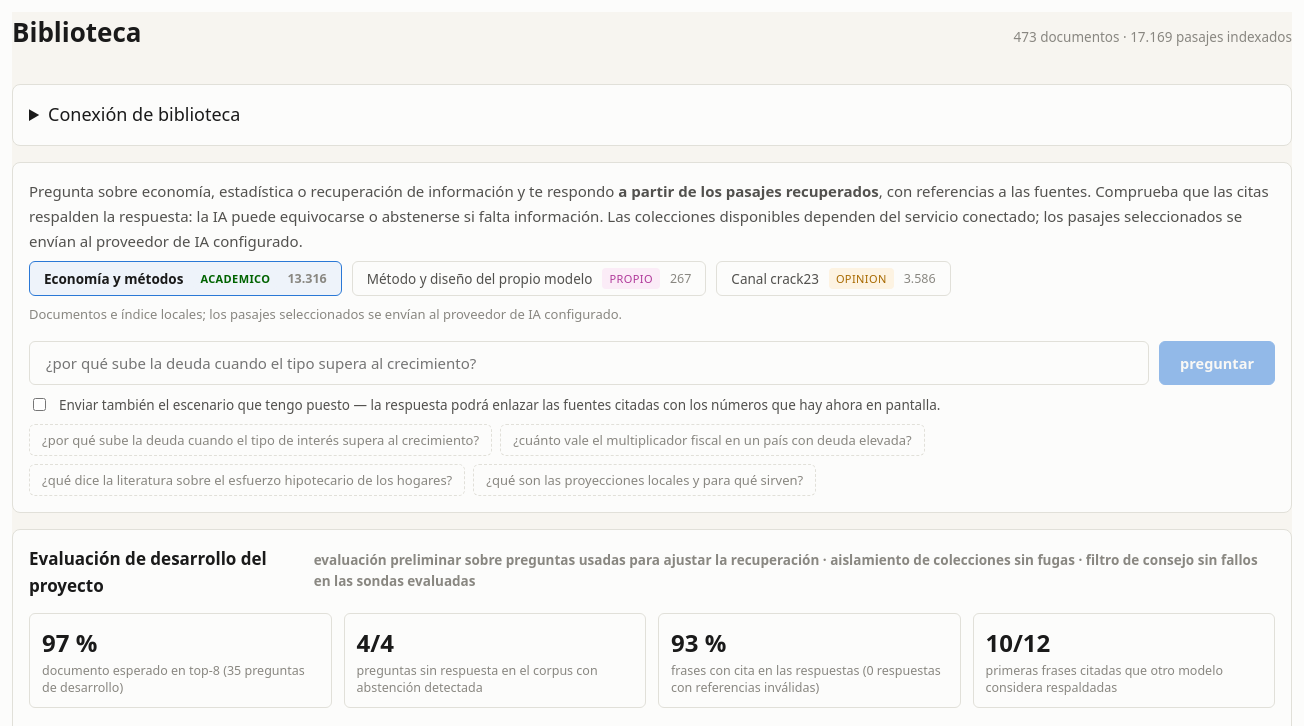
Scenario: Biblioteca — chat con citas › switching collection carries the authority through to the citation
Click the text "Canal crack23": [775, 279] box [731,268,819,289]
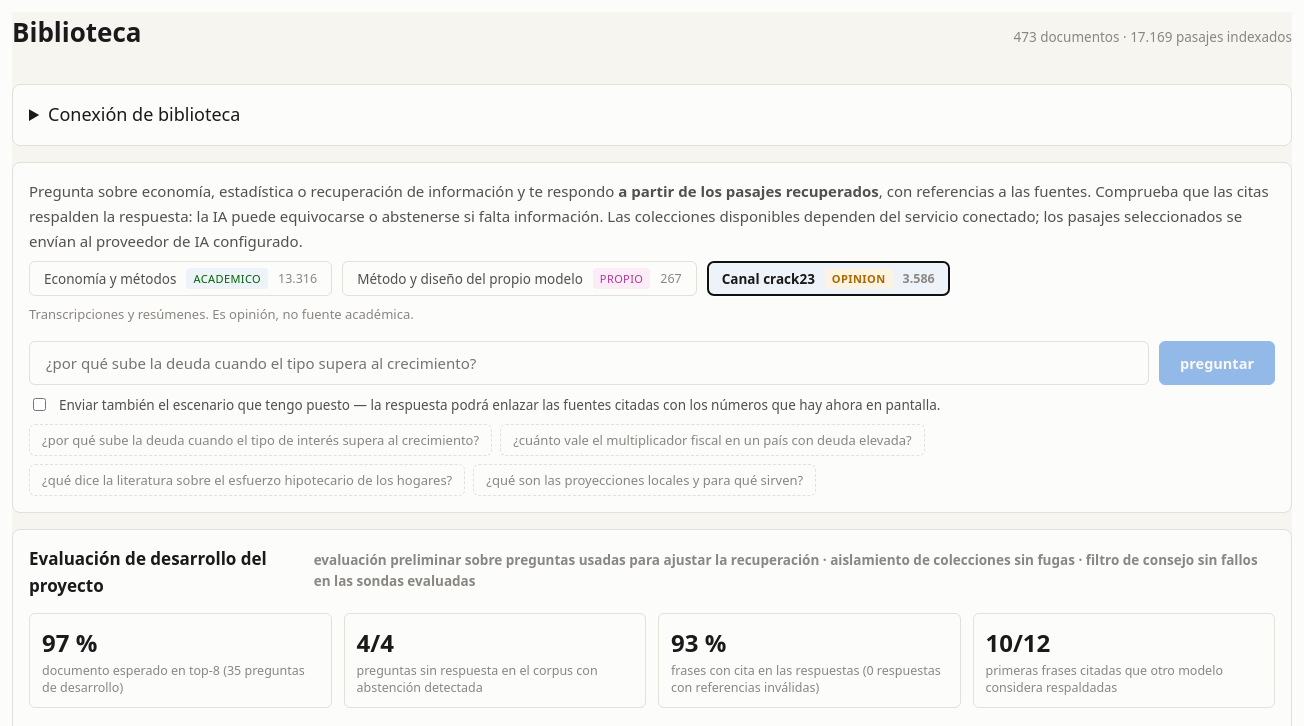
In the field named "Pregunta": [589, 363] box [29,341,1149,385], type "la deuda"
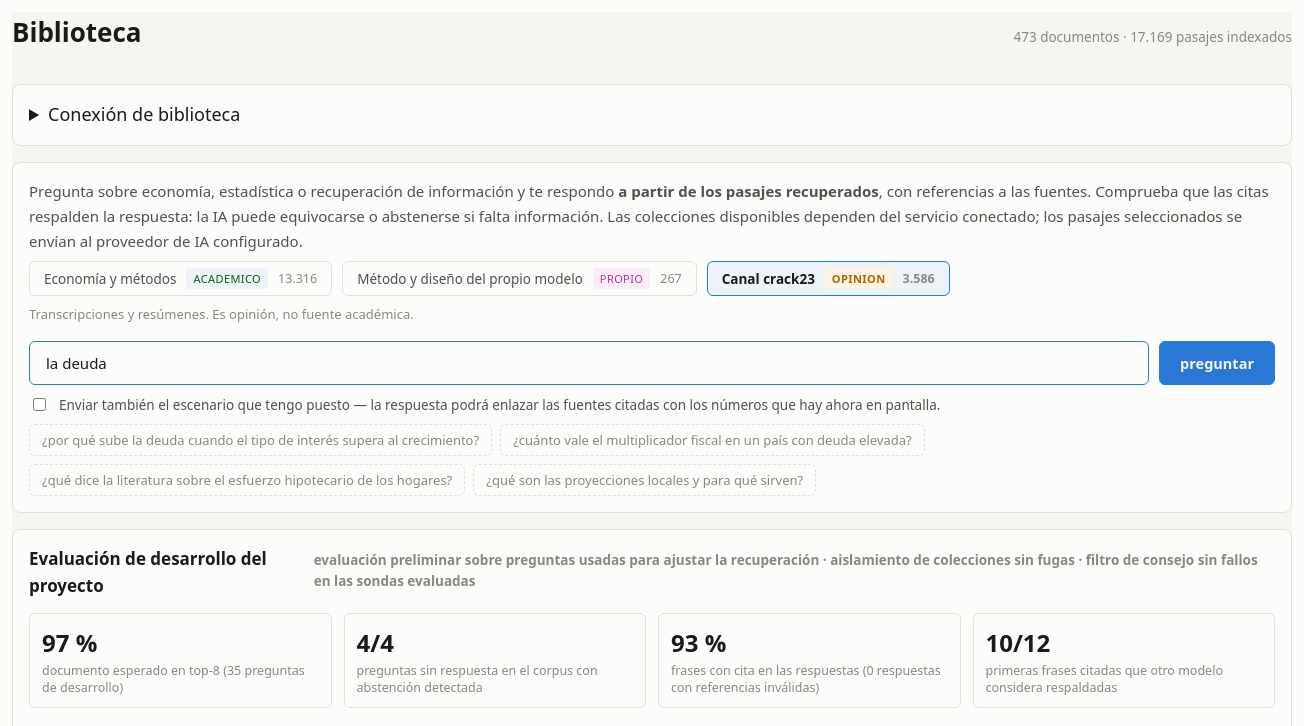
Click the button "preguntar": [1217, 363] box [1159,341,1275,385]
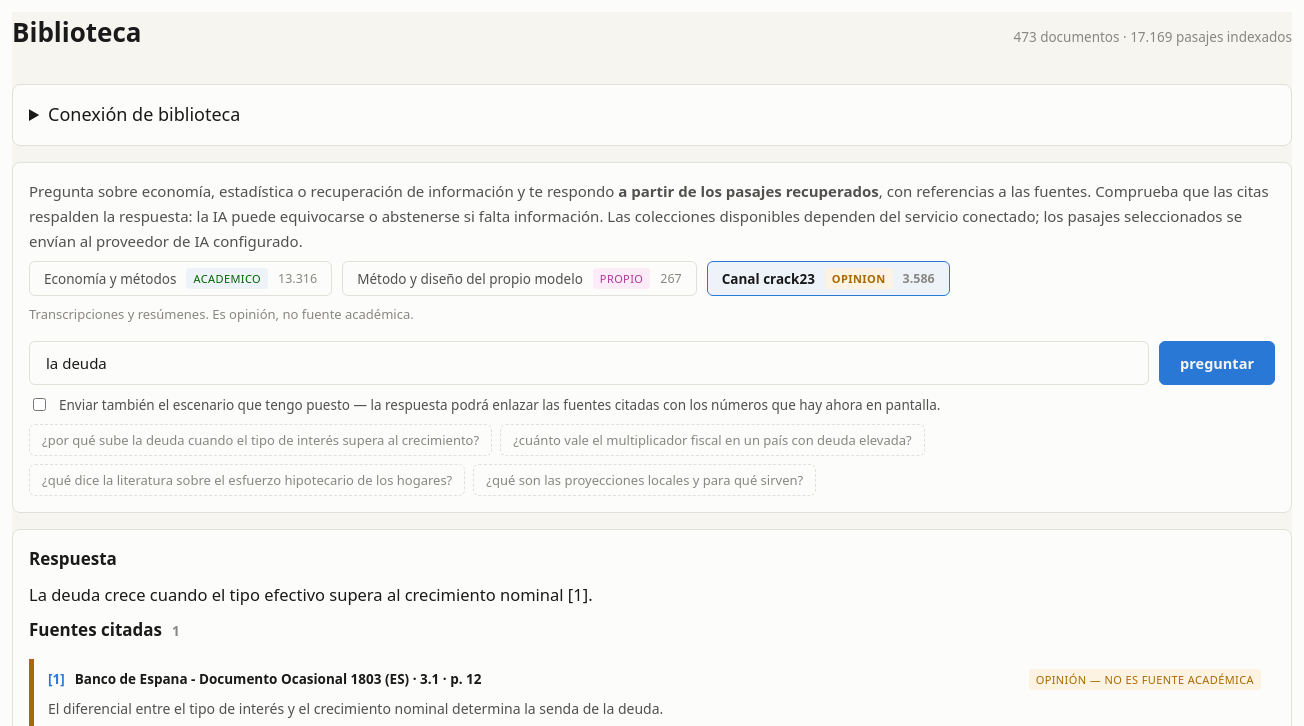
Expected: the text "Documento Ocasional 1803" is shown, [75,670,482,688]
Expected: the text "opinión — no es fuente académica" is shown, [1029,669,1261,690]
